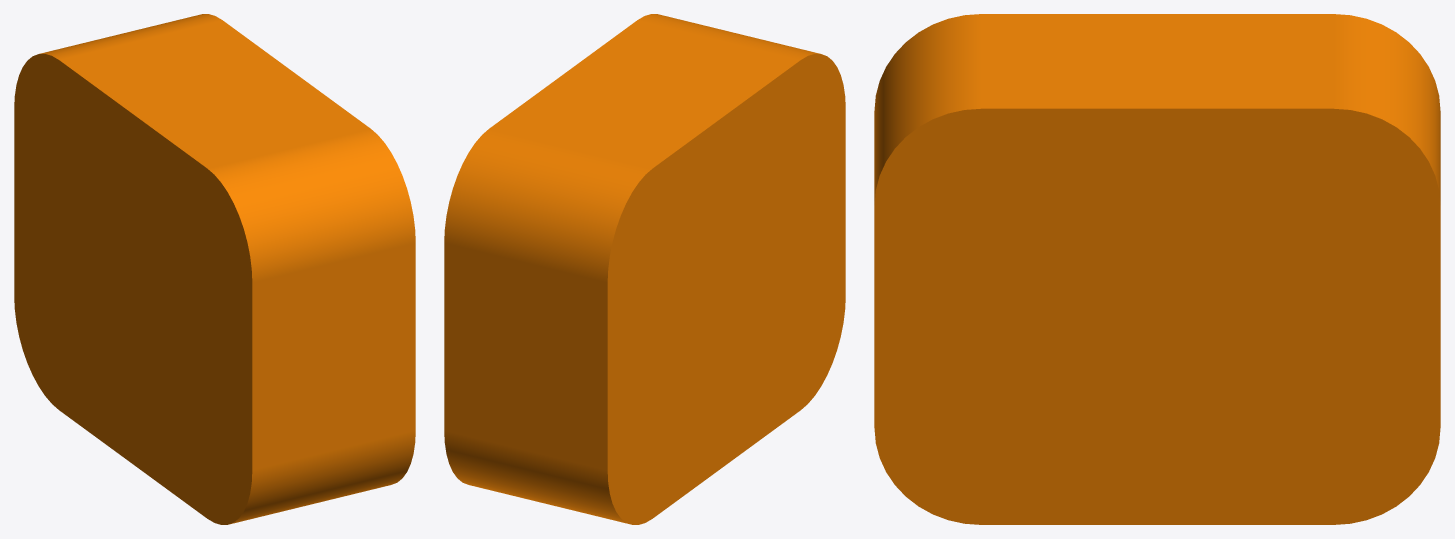
Rendered from battery.dae.
3 views of the same model, side by side, from view 1: azimuth 30°, elevation 25°; view 2: azimuth 150°, elevation 25°; view 3: azimuth 270°, elevation 25° (orthographic). The views are drawn at different scales.
Visible parts, largest first — view 1: ID2; view 2: ID2; view 3: ID2.
Boxes of the visible parts, x1,y1,x2,y2 form: ID2: (14,14,415,524); ID2: (444,14,845,524); ID2: (874,14,1440,524).
Size of the model in its own units: 0.21 by 0.53 by 0.43.
